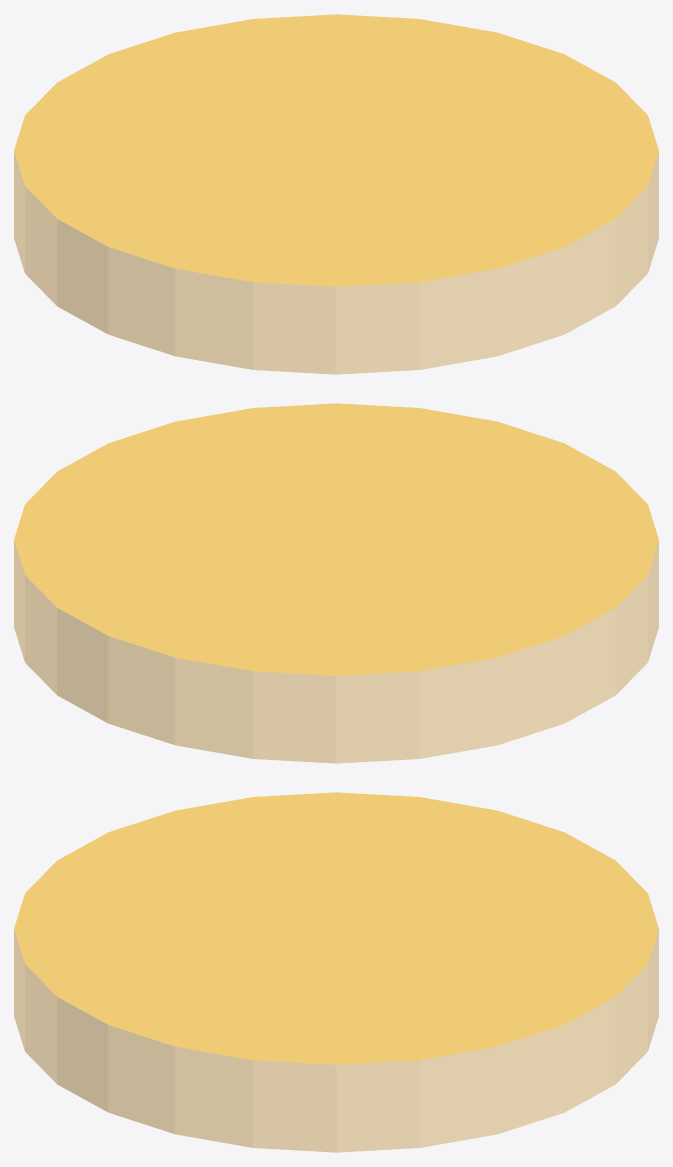
Rendered from rider-dot.glb.
The picture shows the model from 3 angles, top to bottom: view 1: azimuth 30°, elevation 25°; view 2: azimuth 150°, elevation 25°; view 3: azimuth 270°, elevation 25°; orthographic projection.
Bounding box in the file's own units: 1 × 0.15 × 1.
